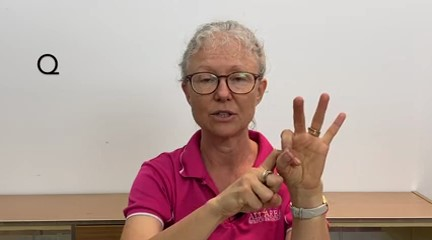Q: (224, 90, 353, 221)
